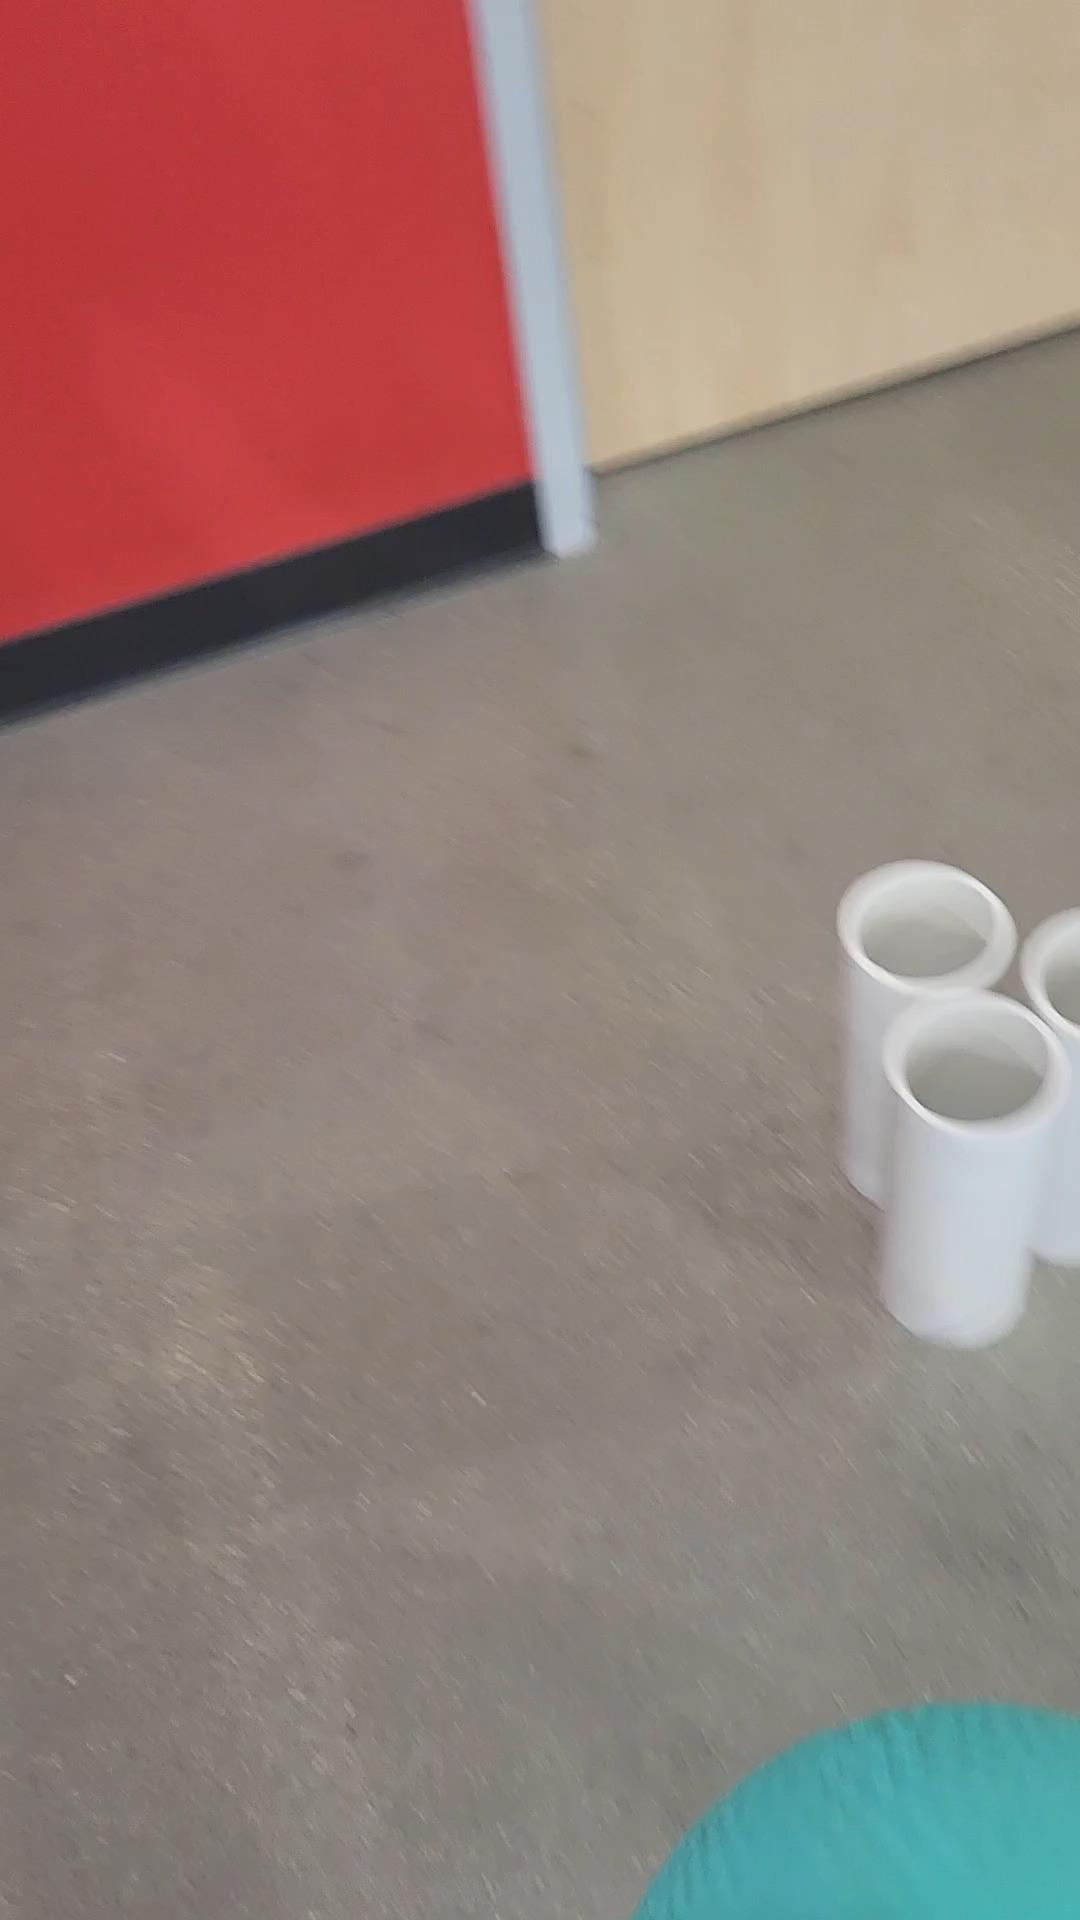algae: (651, 1696, 1080, 1920)
coral: (891, 986, 1030, 1373), (851, 836, 982, 1204), (1026, 852, 1080, 1249)
